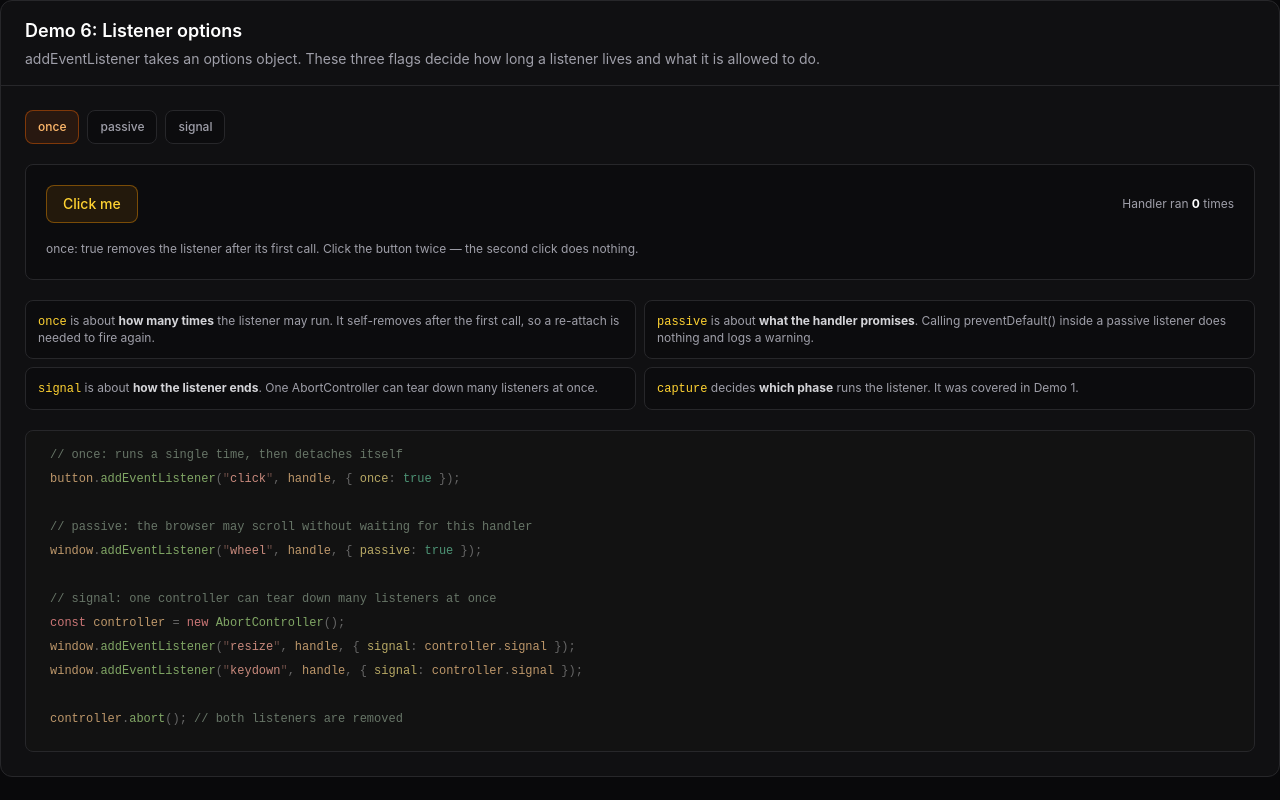
ListenerOptionsDemo › runs the handler every time when the passive option is selected
Click the button "passive".
click(122, 127)  # box x1=88 y1=110 x2=158 y2=144
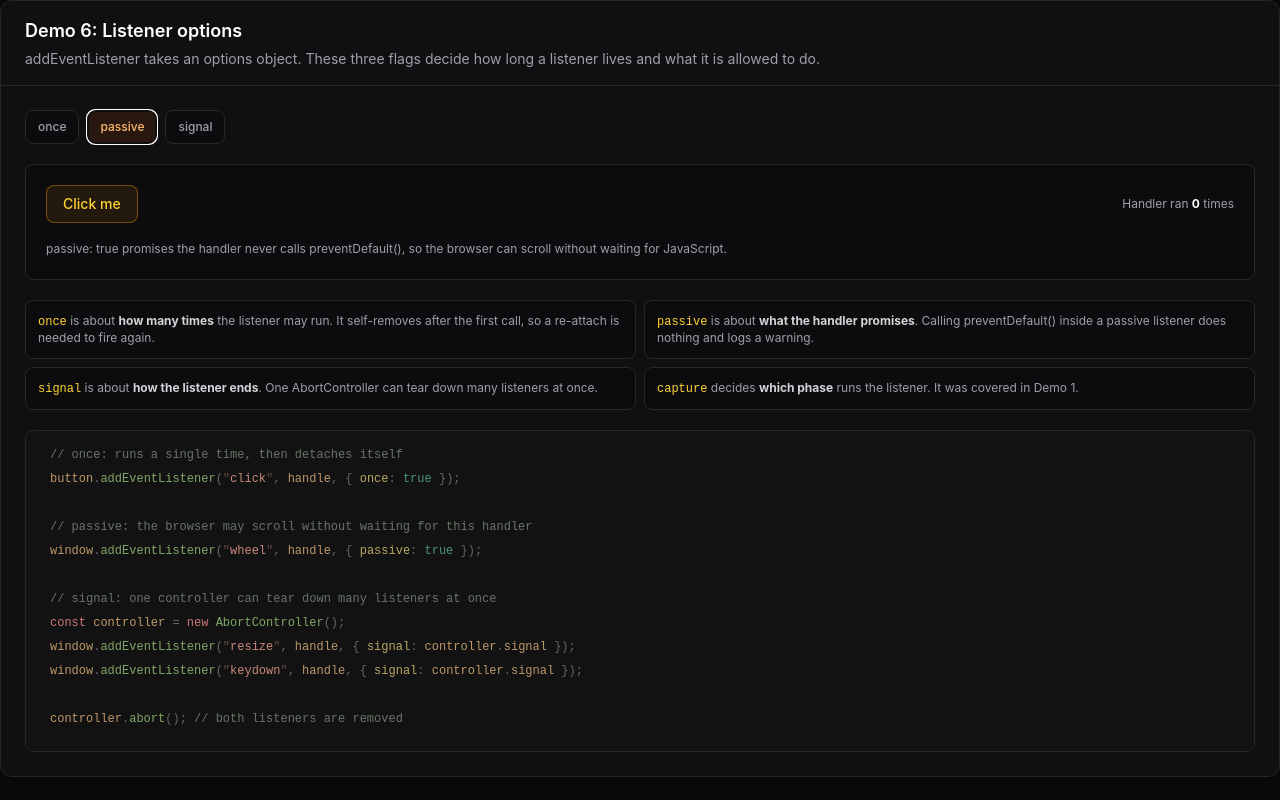
Click the button "Click me".
click(92, 204)  # box x1=46 y1=185 x2=138 y2=223
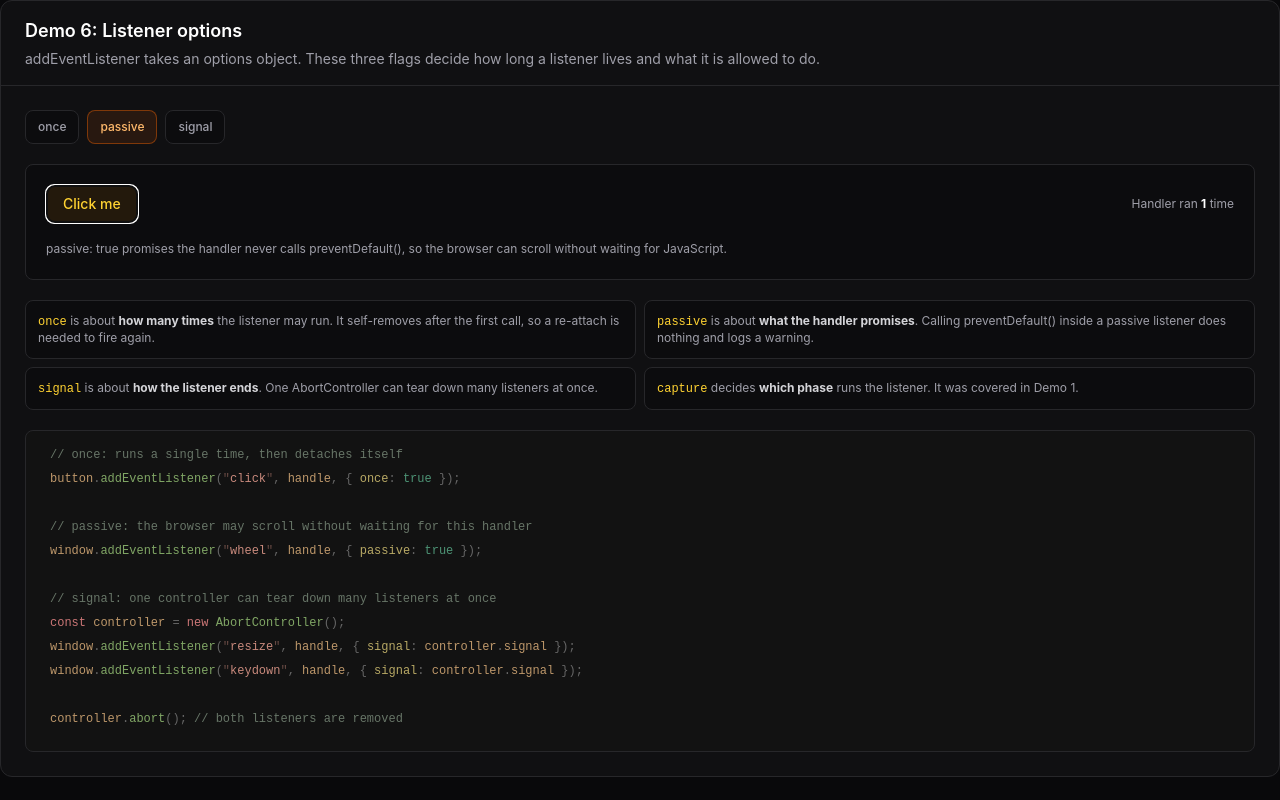
Click the button "Click me".
click(92, 204)  # box x1=46 y1=185 x2=138 y2=223
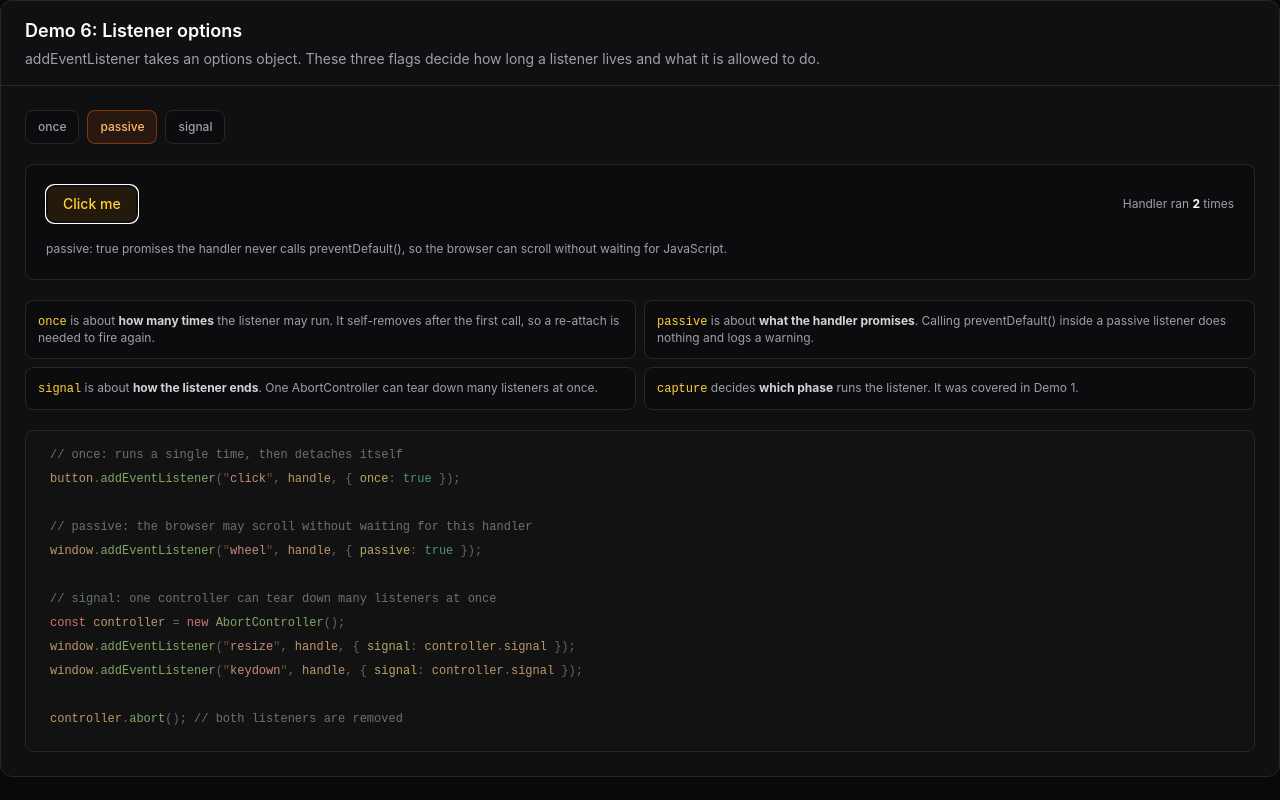
Expected: the text "Handler ran 2 times" is shown, x1=1123 y1=196 x2=1234 y2=212
